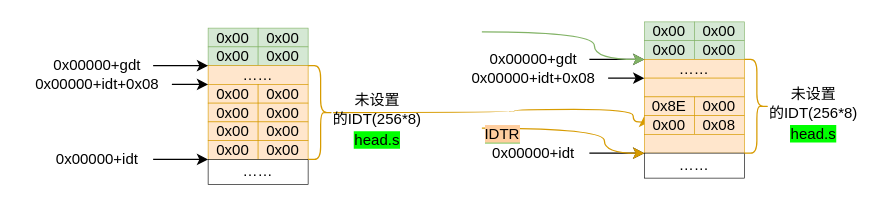
This 890x206 diagram has some shape labels left out. Each missing label, with the box of its shape:
&ignore_int[0:15]: (644, 134, 744, 153)
&ignore_int[16:31]: (644, 77, 744, 97)
